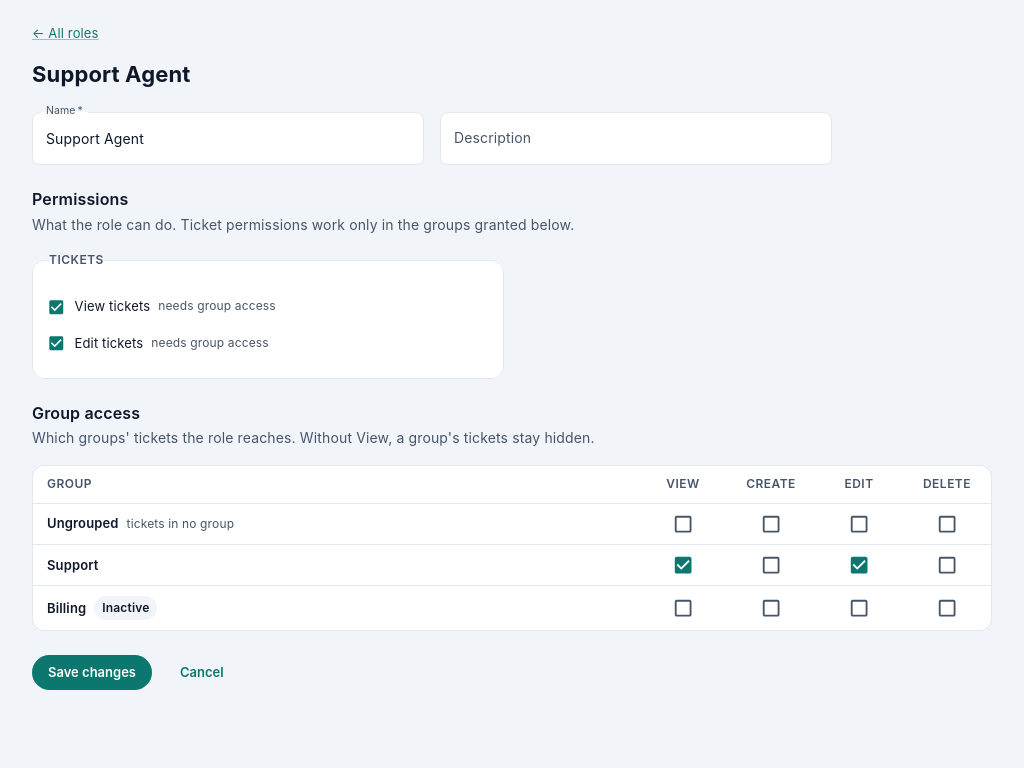
Test: RoleEditorPage › saves without asking when no group loses Edit, and shows a taken name on the field
The width and height of the screenshot is (1024, 768).
Click the checkbox named "View tickets in Ungrouped" at [683, 524], box [672,513,694,535]
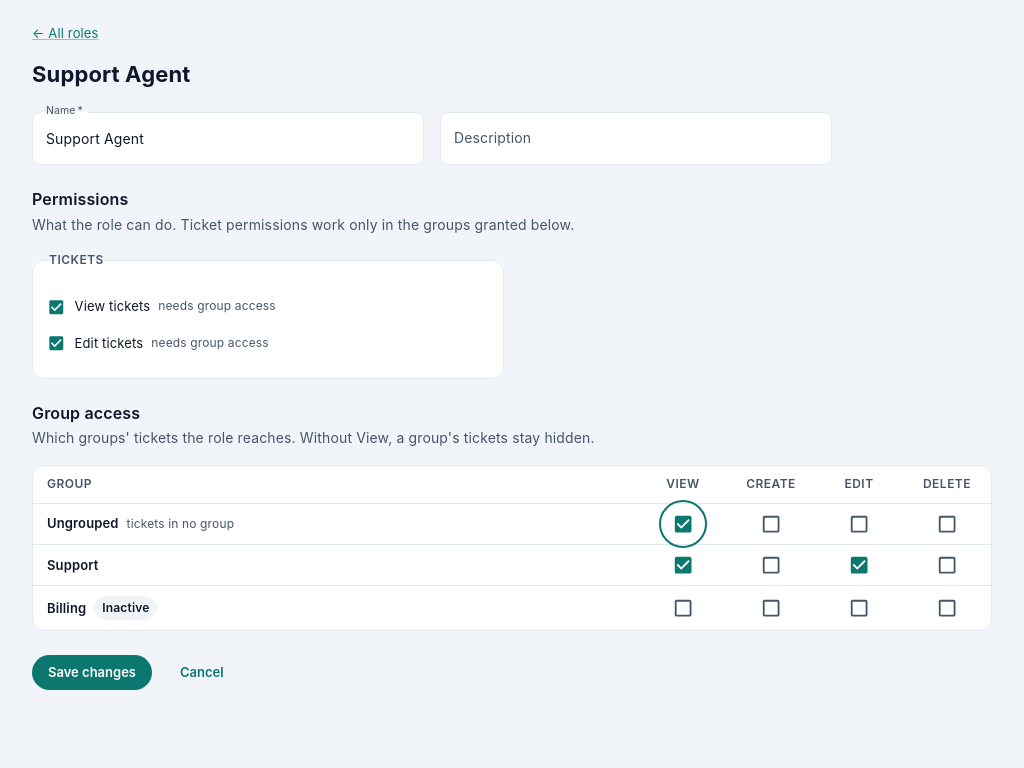
Click the button "Save changes" at [92, 673], box [32,656,152,690]
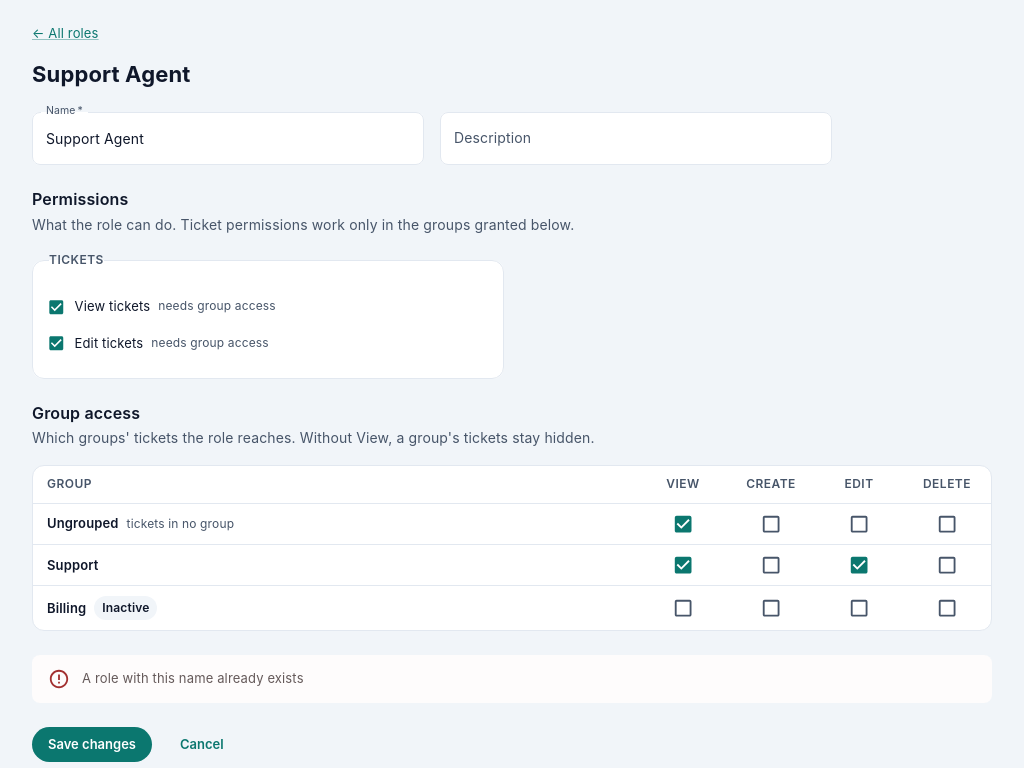
Now the text "A role with this name already exists" is shown, box [82,670,304,686]
